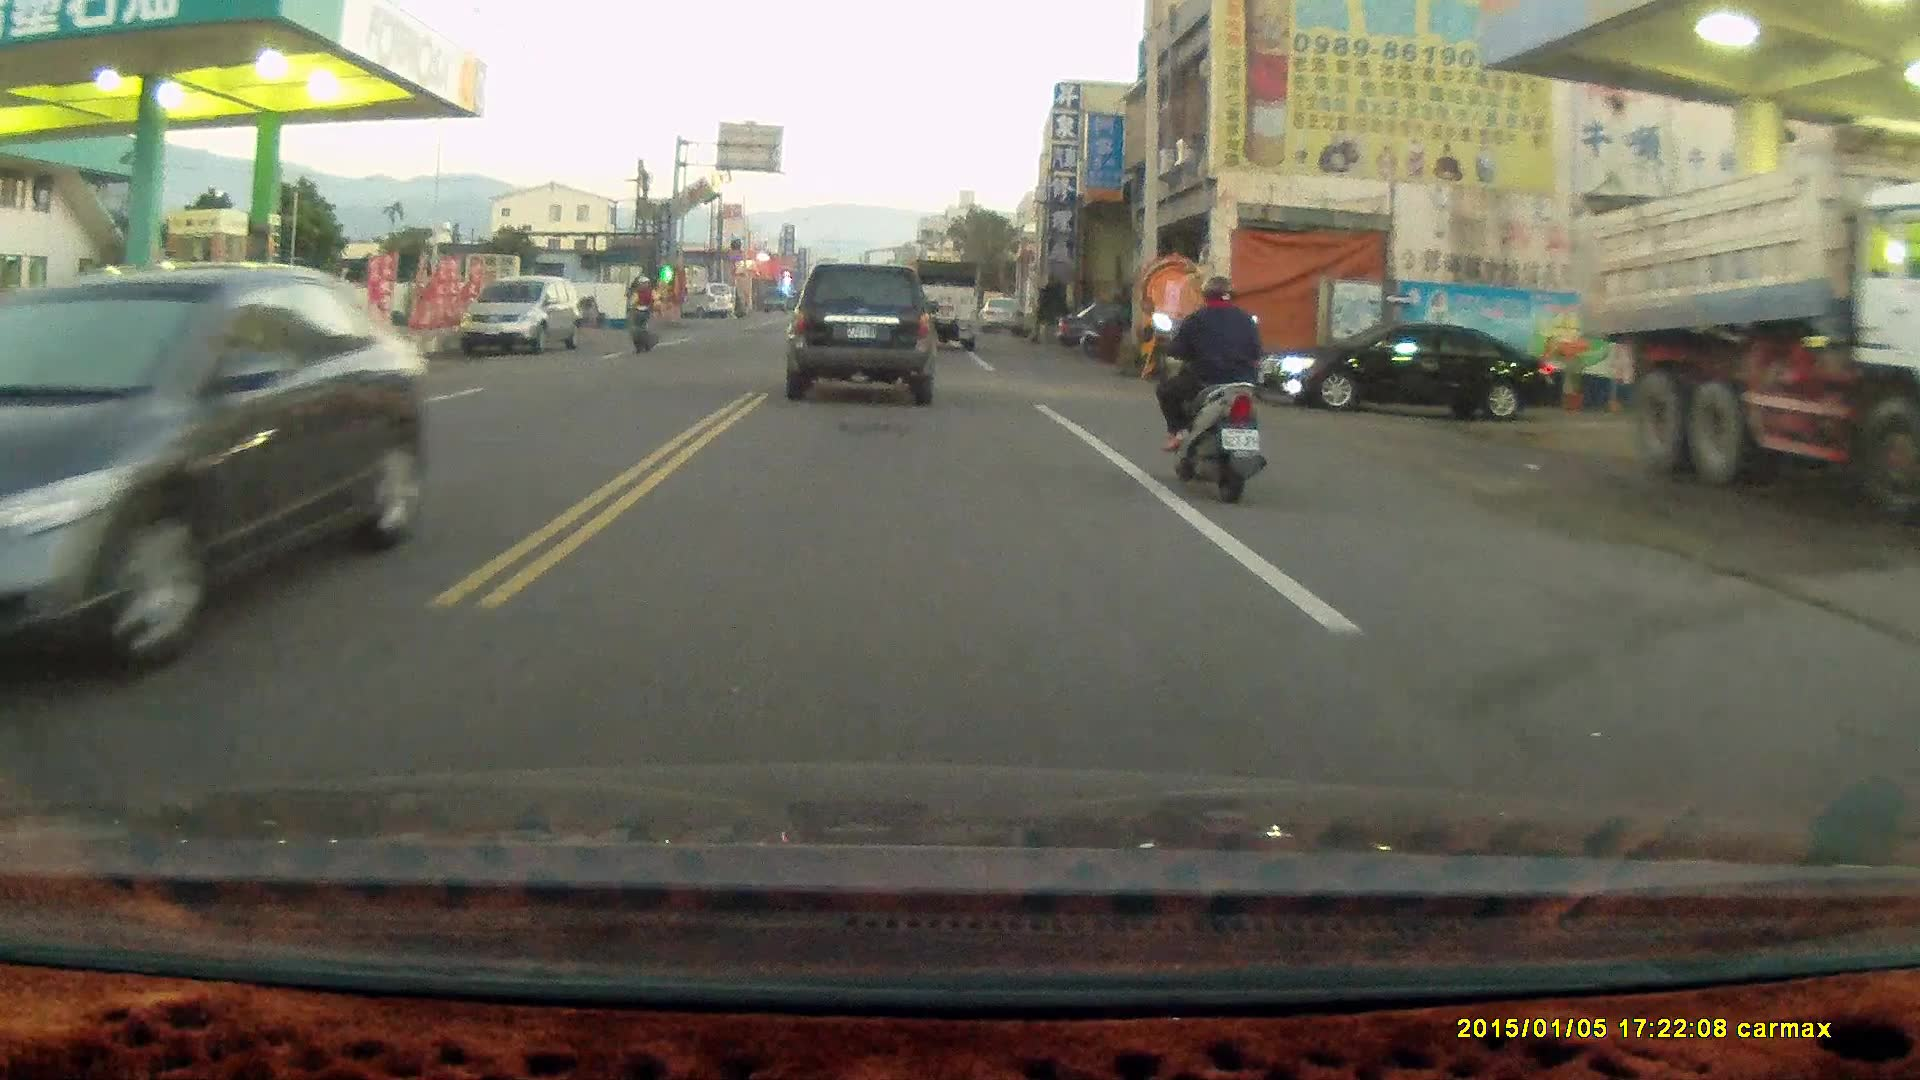rider: (1149, 275, 1266, 503), (621, 271, 659, 354)
vehicle: (1, 259, 441, 719), (1581, 127, 1920, 493), (1268, 323, 1570, 420), (790, 262, 939, 405), (460, 273, 580, 361), (909, 259, 981, 350)
